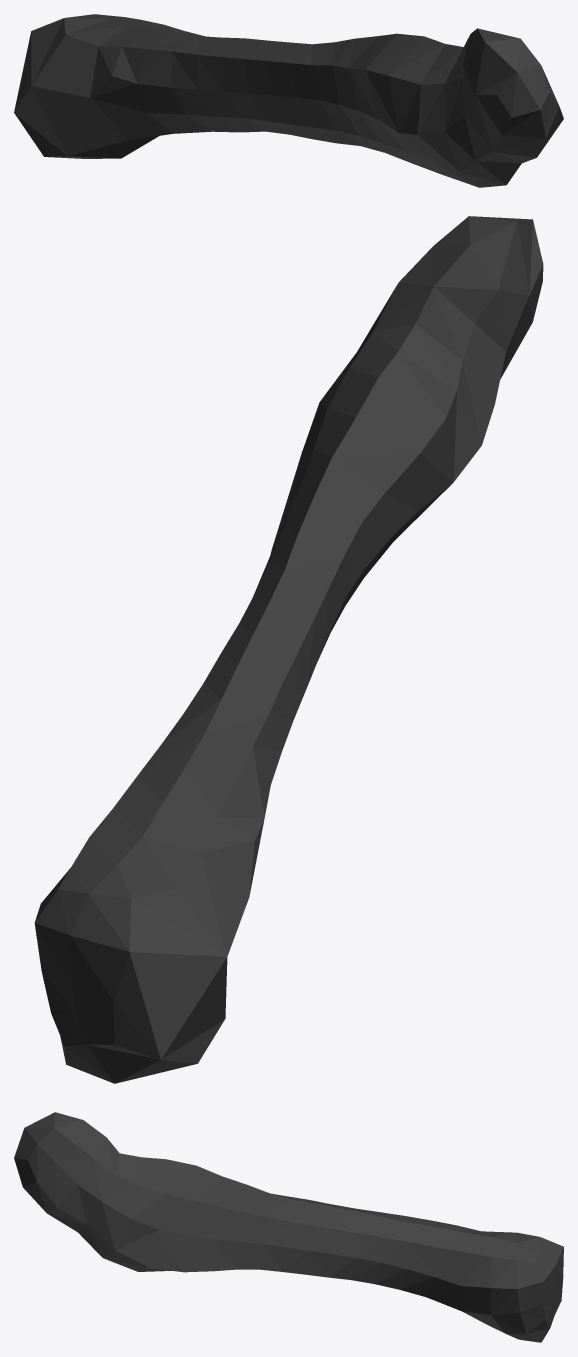
Rendered from R_ceratohyoid.glb.
3 renders of one model, top to bottom at view 1: azimuth 30°, elevation 25°; view 2: azimuth 150°, elevation 25°; view 3: azimuth 270°, elevation 25°, orthographic. The views are drawn at different scales.
Visible parts, largest first — view 1: R_ceratohyoid; view 2: R_ceratohyoid; view 3: R_ceratohyoid.
Part boxes in pixels (bbox=[...]): R_ceratohyoid: bbox=[14, 14, 563, 187]; R_ceratohyoid: bbox=[34, 216, 543, 1083]; R_ceratohyoid: bbox=[14, 1112, 563, 1342].
Size of the model in its own units: 0.1508 by 0.229 by 0.4716.
Materials: 1 (1 with a texture image).
